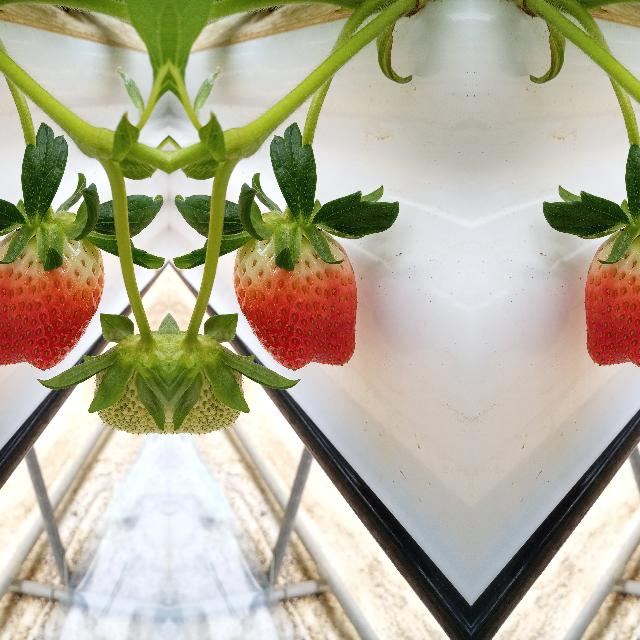Health_100: (232, 227, 358, 371), (0, 227, 103, 371), (583, 227, 640, 371)
Health_25: (168, 325, 244, 439), (92, 325, 168, 439)
